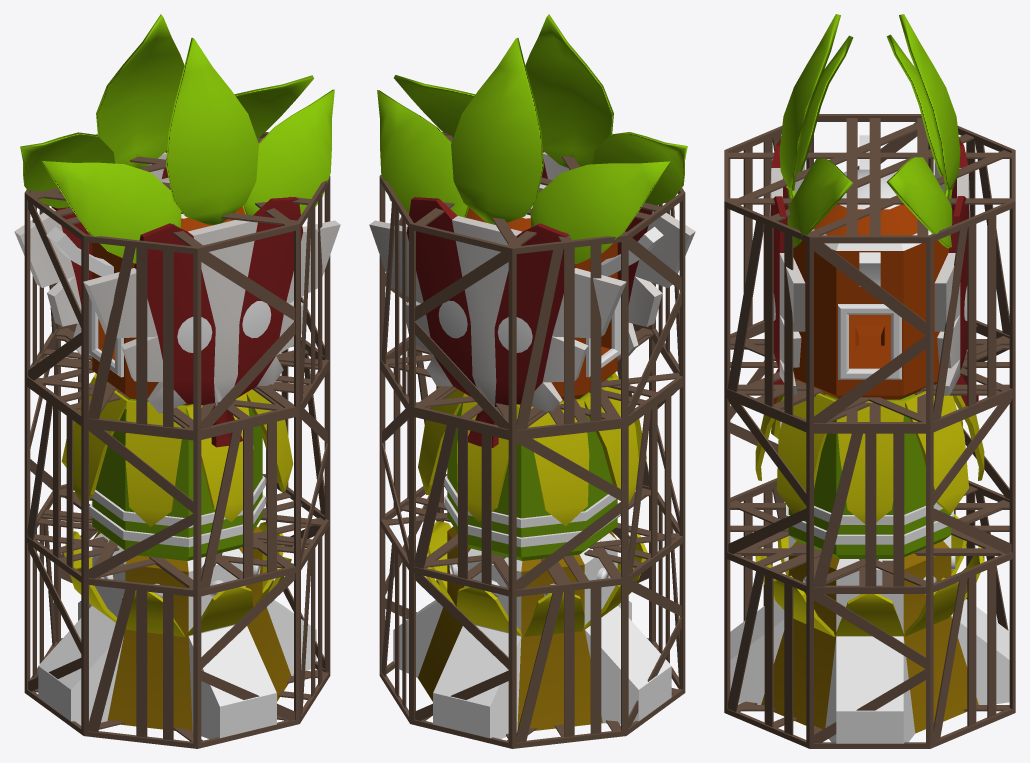
Rendered from Monument_v1.fbx.
3 views of the same model, side by side, from view 1: azimuth 30°, elevation 25°; view 2: azimuth 150°, elevation 25°; view 3: azimuth 270°, elevation 25° (orthographic). The views are drawn at different scales.
Visible parts, largest first — view 1: VictoryLeafs, TotemPart_3, TotemScaffolding2, TotemScaffolding3, TotemPart_1, TotemScaffolding1, TotemPart_2; view 2: VictoryLeafs, TotemPart_3, TotemScaffolding2, TotemPart_1, TotemScaffolding3, TotemScaffolding1, TotemPart_2; view 3: TotemScaffolding3, TotemPart_1, TotemPart_3, TotemScaffolding2, TotemScaffolding1, TotemPart_2, VictoryLeafs.
Boxes of the visible parts, x1,y1,x2,y2 form: VictoryLeafs: (20, 14, 334, 263); TotemPart_3: (14, 151, 340, 447); TotemScaffolding2: (24, 323, 330, 596); TotemScaffolding3: (24, 132, 330, 440); TotemPart_1: (38, 521, 316, 739); TotemScaffolding1: (24, 484, 330, 748); TotemPart_2: (61, 373, 293, 560); VictoryLeafs: (377, 14, 687, 263); TotemPart_3: (369, 151, 695, 447); TotemScaffolding2: (379, 324, 685, 592); TotemPart_1: (393, 521, 671, 739); TotemScaffolding3: (379, 132, 685, 440); TotemScaffolding1: (379, 483, 685, 748); TotemPart_2: (418, 372, 646, 560); TotemScaffolding3: (724, 114, 1015, 433); TotemPart_1: (730, 514, 1009, 743); TotemPart_3: (769, 135, 978, 405); TotemScaffolding2: (724, 320, 1015, 592); TotemScaffolding1: (724, 482, 1015, 748); TotemPart_2: (755, 380, 984, 558); VictoryLeafs: (779, 14, 960, 248).
Size of the model in its own units: 3.96 by 8.45 by 3.32.
